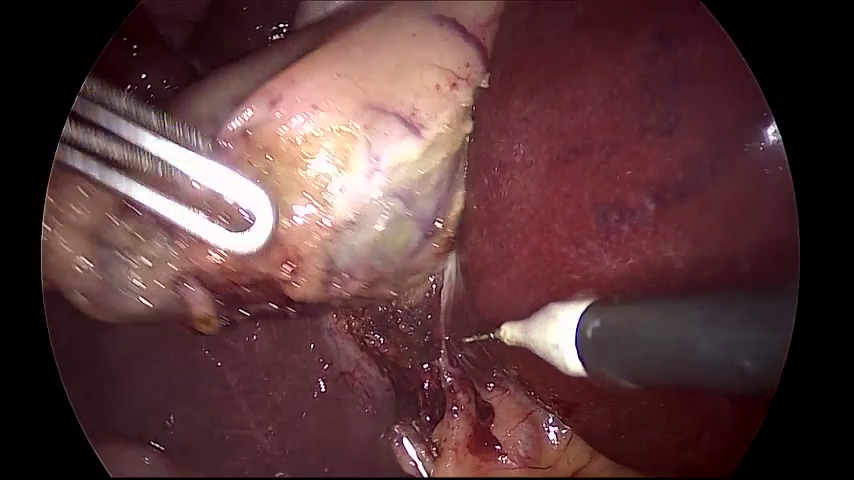grasper: (55, 73, 273, 252)
lhook: (465, 281, 799, 399)
